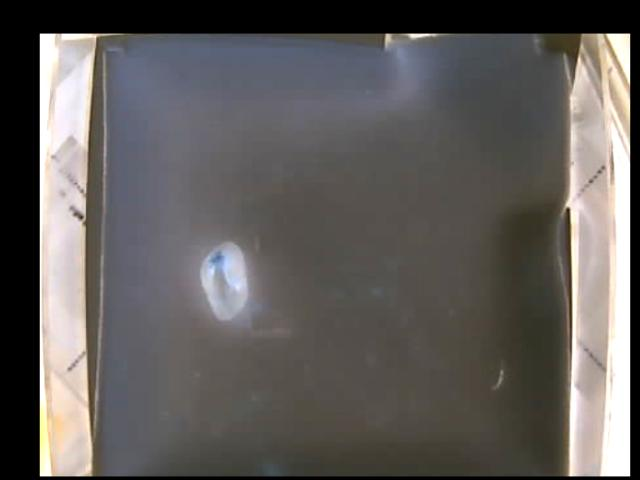Pebble: (201, 240, 245, 318)
